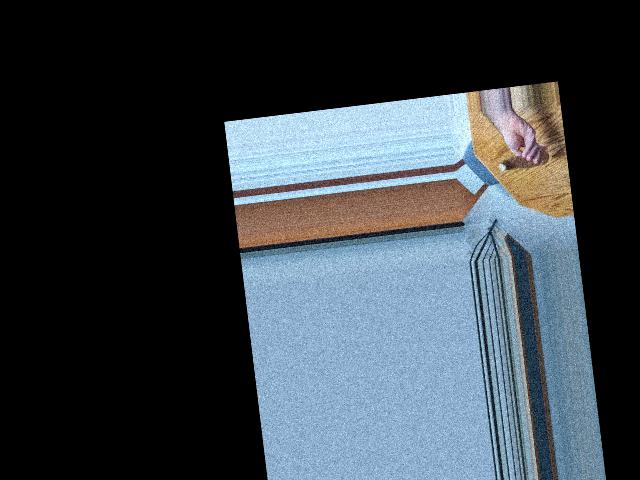sweet_potato: (496, 154, 541, 170)
